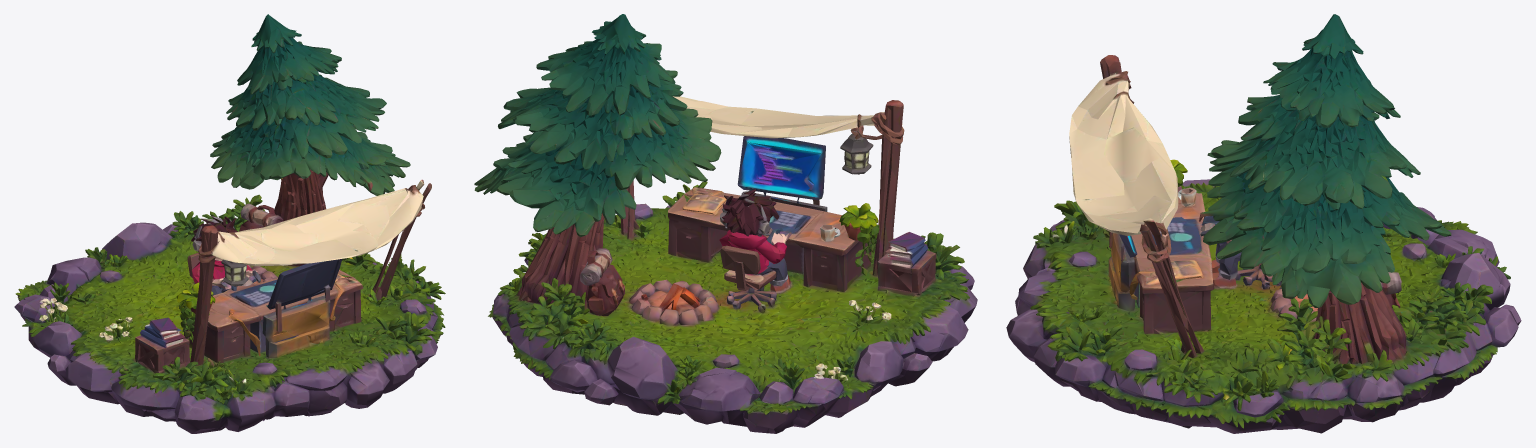
File: detailed.glb
The picture shows the model from 3 angles, left to right: view 1: azimuth 30°, elevation 25°; view 2: azimuth 150°, elevation 25°; view 3: azimuth 270°, elevation 25°; orthographic projection. The views are drawn at different scales.
Parts seen in each view (by area): view 1: output_unwrapped; view 2: output_unwrapped; view 3: output_unwrapped.
Boxes of the visible parts, x1,y1,x2,y2 form: output_unwrapped: (14, 14, 445, 433); output_unwrapped: (474, 14, 977, 433); output_unwrapped: (1006, 14, 1521, 433).
Bounding box in the file's own units: 1.9 × 1.48 × 1.86.
Materials: 1 (1 with a texture image).
